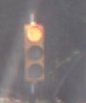Red: (19, 17, 50, 83)
